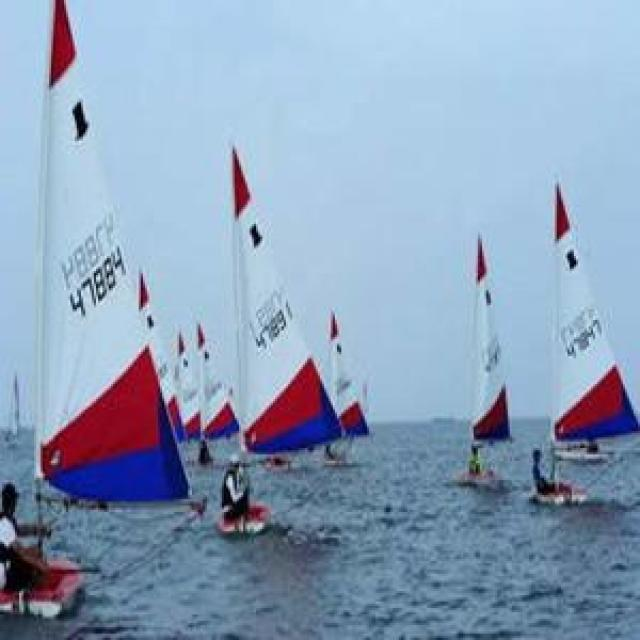sailboat: (0, 0, 182, 609), (200, 142, 324, 526), (527, 164, 640, 508), (448, 219, 520, 488), (311, 305, 382, 467), (190, 325, 238, 465), (166, 314, 204, 456)
